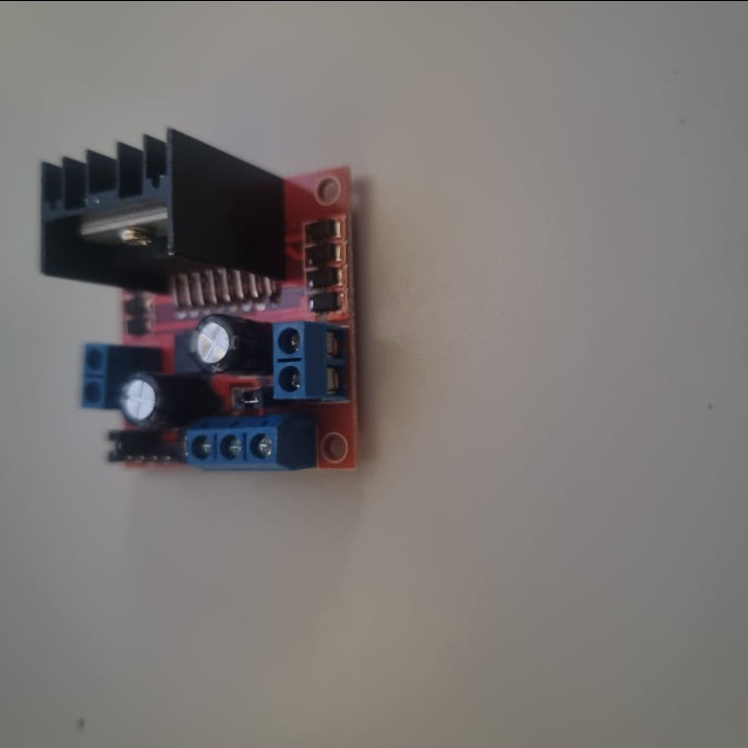MOTOR: (41, 125, 357, 475)
